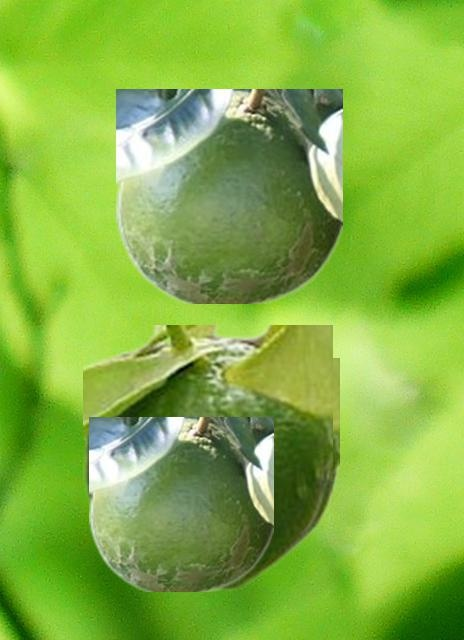dalandan: (83, 325, 331, 589), (116, 89, 341, 302), (89, 417, 272, 590), (288, 358, 338, 556)
